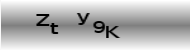9: (92, 20, 105, 34)
K: (104, 25, 121, 39)
Z: (35, 13, 50, 26)
t: (49, 22, 59, 35)
y: (76, 12, 91, 26)
